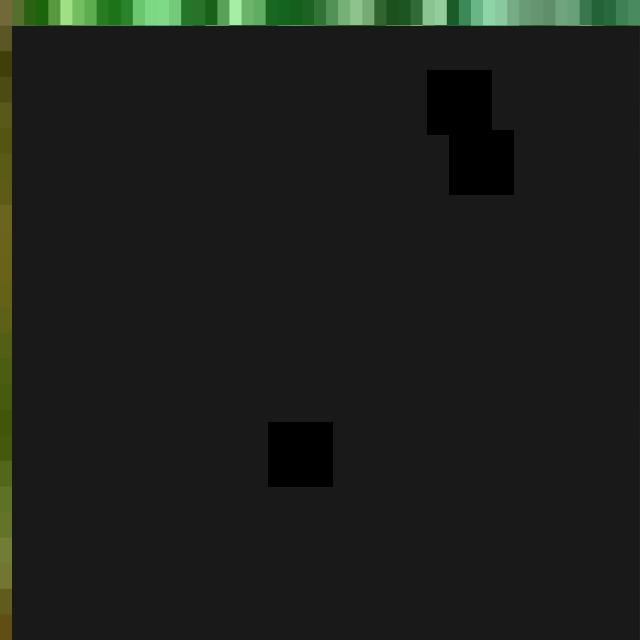nofire: (12, 25, 640, 640)
